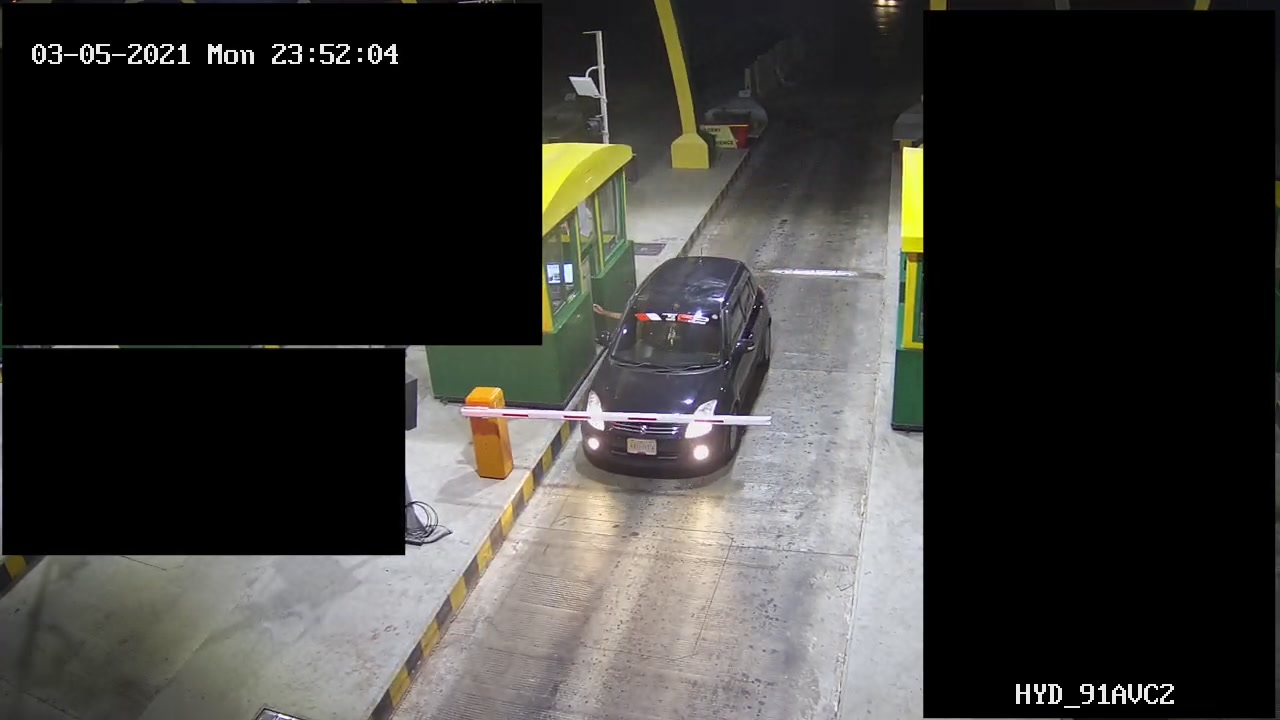F1: (568, 244, 783, 494)
